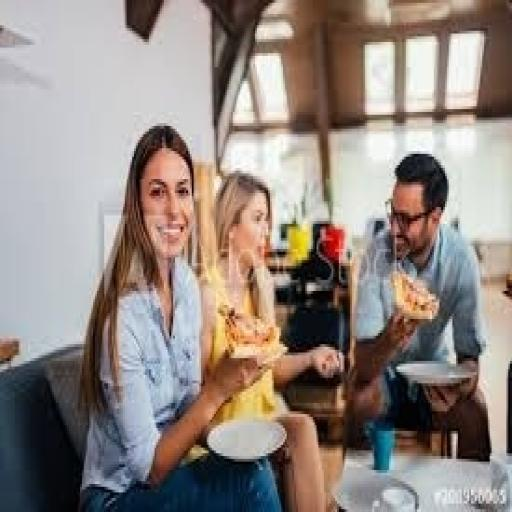eating: (76, 120, 285, 510), (198, 168, 346, 509), (344, 148, 492, 462)
